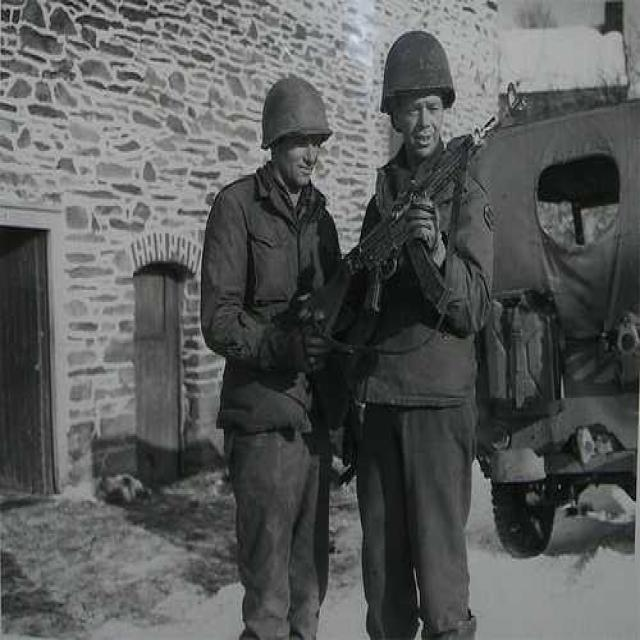Rifle: (271, 101, 516, 362)
